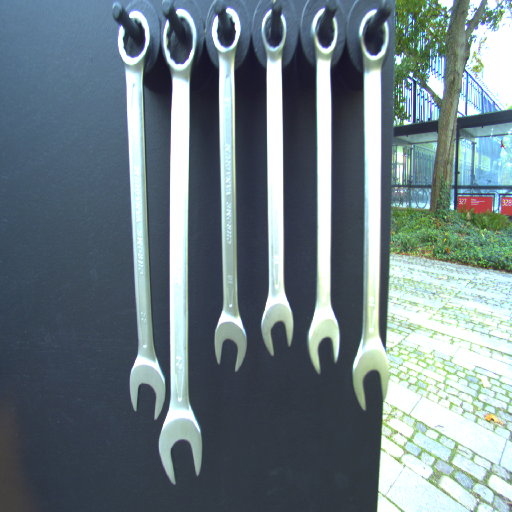bottom: (156, 409, 206, 490), (351, 335, 391, 416), (125, 348, 166, 421), (212, 308, 250, 374), (259, 291, 294, 356), (307, 308, 342, 373)
top: (160, 7, 198, 75), (356, 9, 393, 66), (116, 8, 150, 66), (210, 8, 247, 55), (310, 5, 340, 62), (260, 7, 288, 55)
